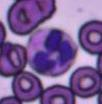N: (27, 28, 78, 76)
